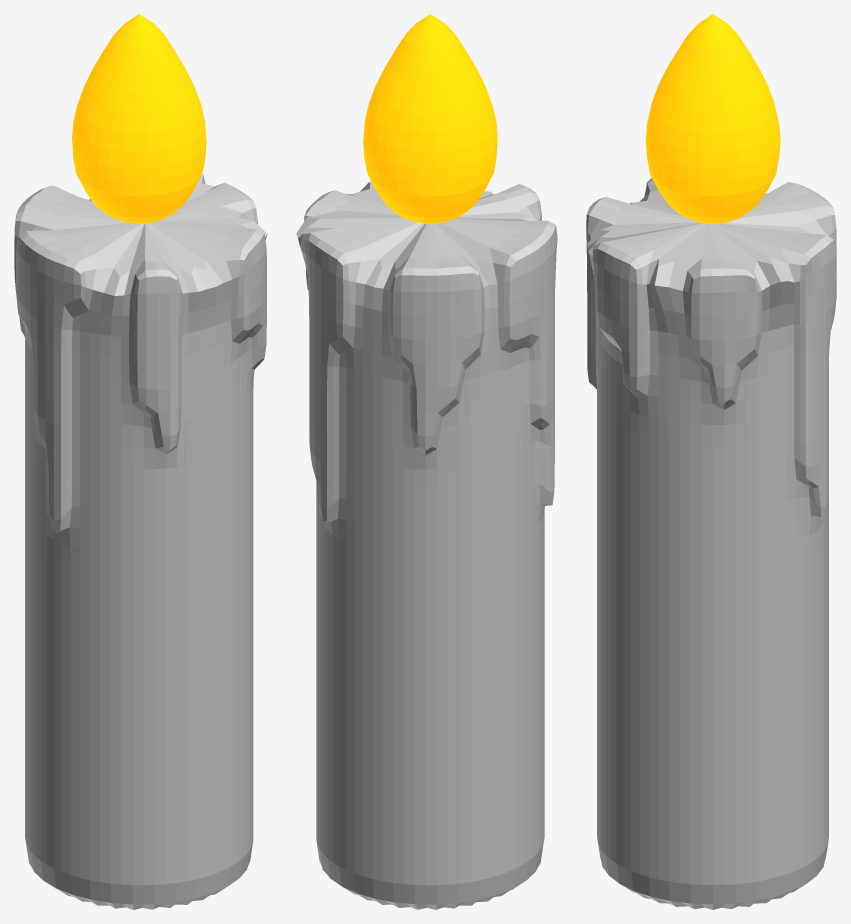
File: Vela3.fbx
3 renders of one model, left to right at view 1: azimuth 30°, elevation 25°; view 2: azimuth 150°, elevation 25°; view 3: azimuth 270°, elevation 25°, orthographic.
Visible parts, largest first — view 1: Cylinder, Sphere; view 2: Cylinder, Sphere; view 3: Cylinder, Sphere.
Boxes of the visible parts, <box> form: Cylinder: <box>14,174,267,909</box>; Sphere: <box>72,14,206,223</box>; Cylinder: <box>296,181,557,909</box>; Sphere: <box>363,14,497,223</box>; Cylinder: <box>586,178,836,909</box>; Sphere: <box>645,14,780,223</box>.
Bounding box in the file's own units: 4.37 × 16.36 × 4.29.
